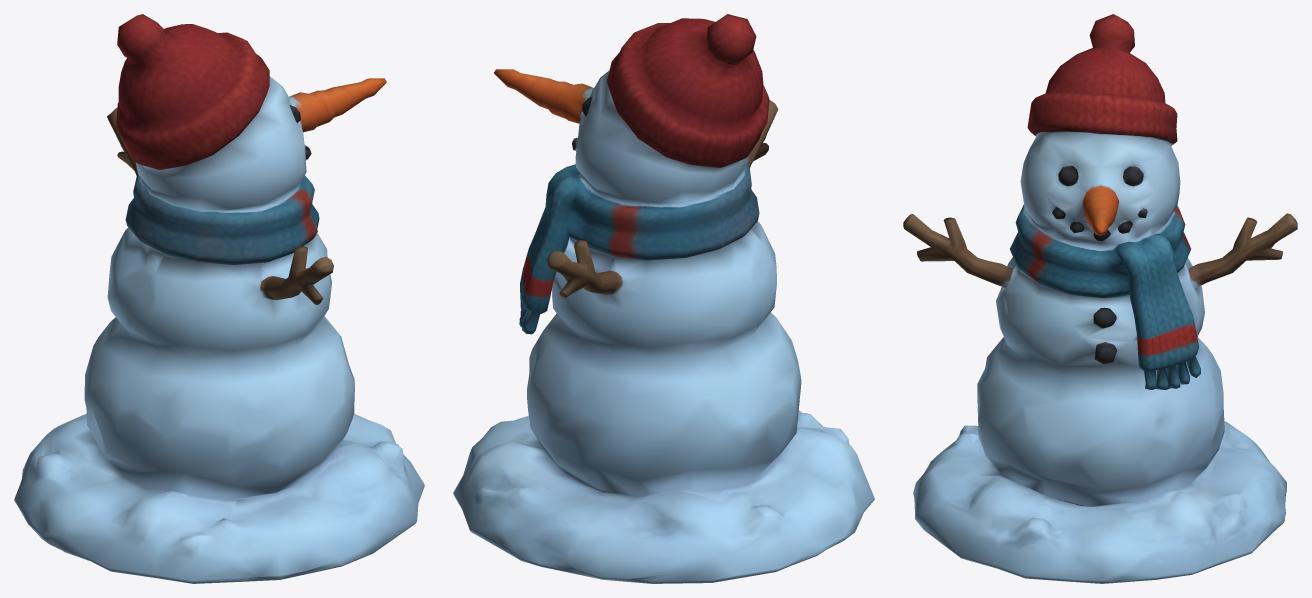
Rendered from model_url.glb.
3 renders of one model, left to right at view 1: azimuth 30°, elevation 25°; view 2: azimuth 150°, elevation 25°; view 3: azimuth 270°, elevation 25°, orthographic. The views are drawn at different scales.
Visible parts, largest first — view 1: tripo_node_8cdd301a-ce2d-42fc-ac8e-639ab46d5c4d; view 2: tripo_node_8cdd301a-ce2d-42fc-ac8e-639ab46d5c4d; view 3: tripo_node_8cdd301a-ce2d-42fc-ac8e-639ab46d5c4d.
Part boxes in pixels (x1=…): tripo_node_8cdd301a-ce2d-42fc-ac8e-639ab46d5c4d: x1=14, y1=14, x2=424, y2=583; tripo_node_8cdd301a-ce2d-42fc-ac8e-639ab46d5c4d: x1=453, y1=14, x2=874, y2=583; tripo_node_8cdd301a-ce2d-42fc-ac8e-639ab46d5c4d: x1=903, y1=14, x2=1297, y2=583.
Bounding box in the file's own units: 0.7554 × 1 × 0.7828.
Materials: 1 (1 with a texture image).
